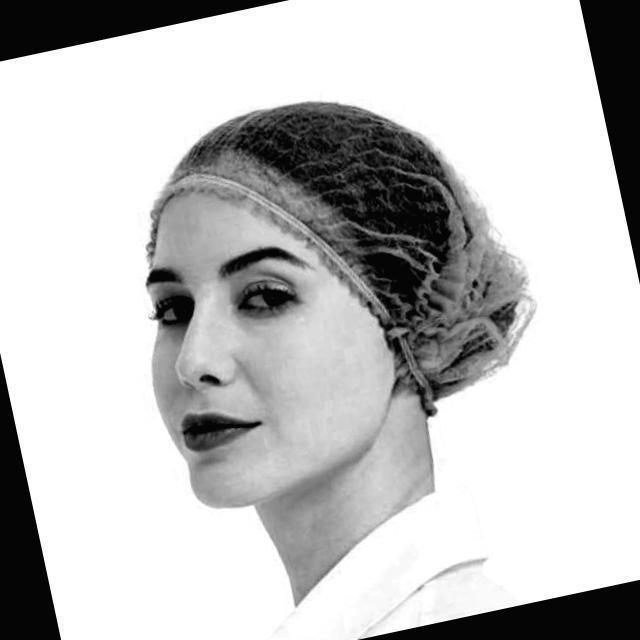gloves: (335, 105, 538, 396)
